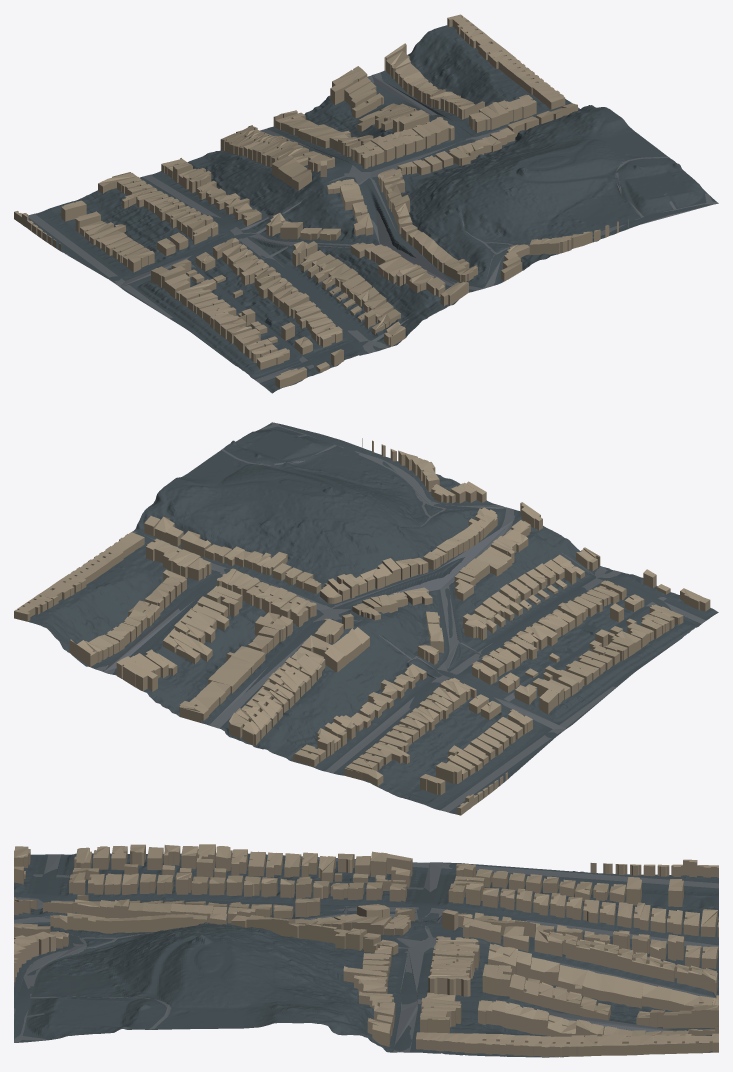
The model's file is epsg26910-1423-10880.lod0.glb.
3 views of the same model, one above another, from view 1: azimuth 30°, elevation 25°; view 2: azimuth 150°, elevation 25°; view 3: azimuth 270°, elevation 25° (orthographic). The views are drawn at different scales.
Visible parts, largest first — view 1: epsg26910-1423-10880-lod0; view 2: epsg26910-1423-10880-lod0; view 3: epsg26910-1423-10880-lod0.
Part boxes in pixels (x1=…): epsg26910-1423-10880-lod0: x1=14, y1=14, x2=718, y2=393; epsg26910-1423-10880-lod0: x1=14, y1=422, x2=718, y2=815; epsg26910-1423-10880-lod0: x1=14, y1=844, x2=718, y2=1057.
Bounding box in the file's own units: 384 × 91.96 × 384.
